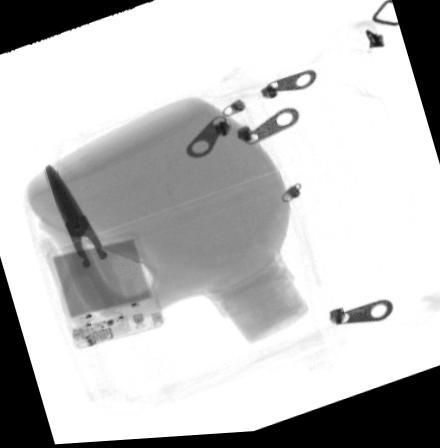Powerbank: (45, 231, 167, 351)
Scissors: (43, 158, 164, 328)
